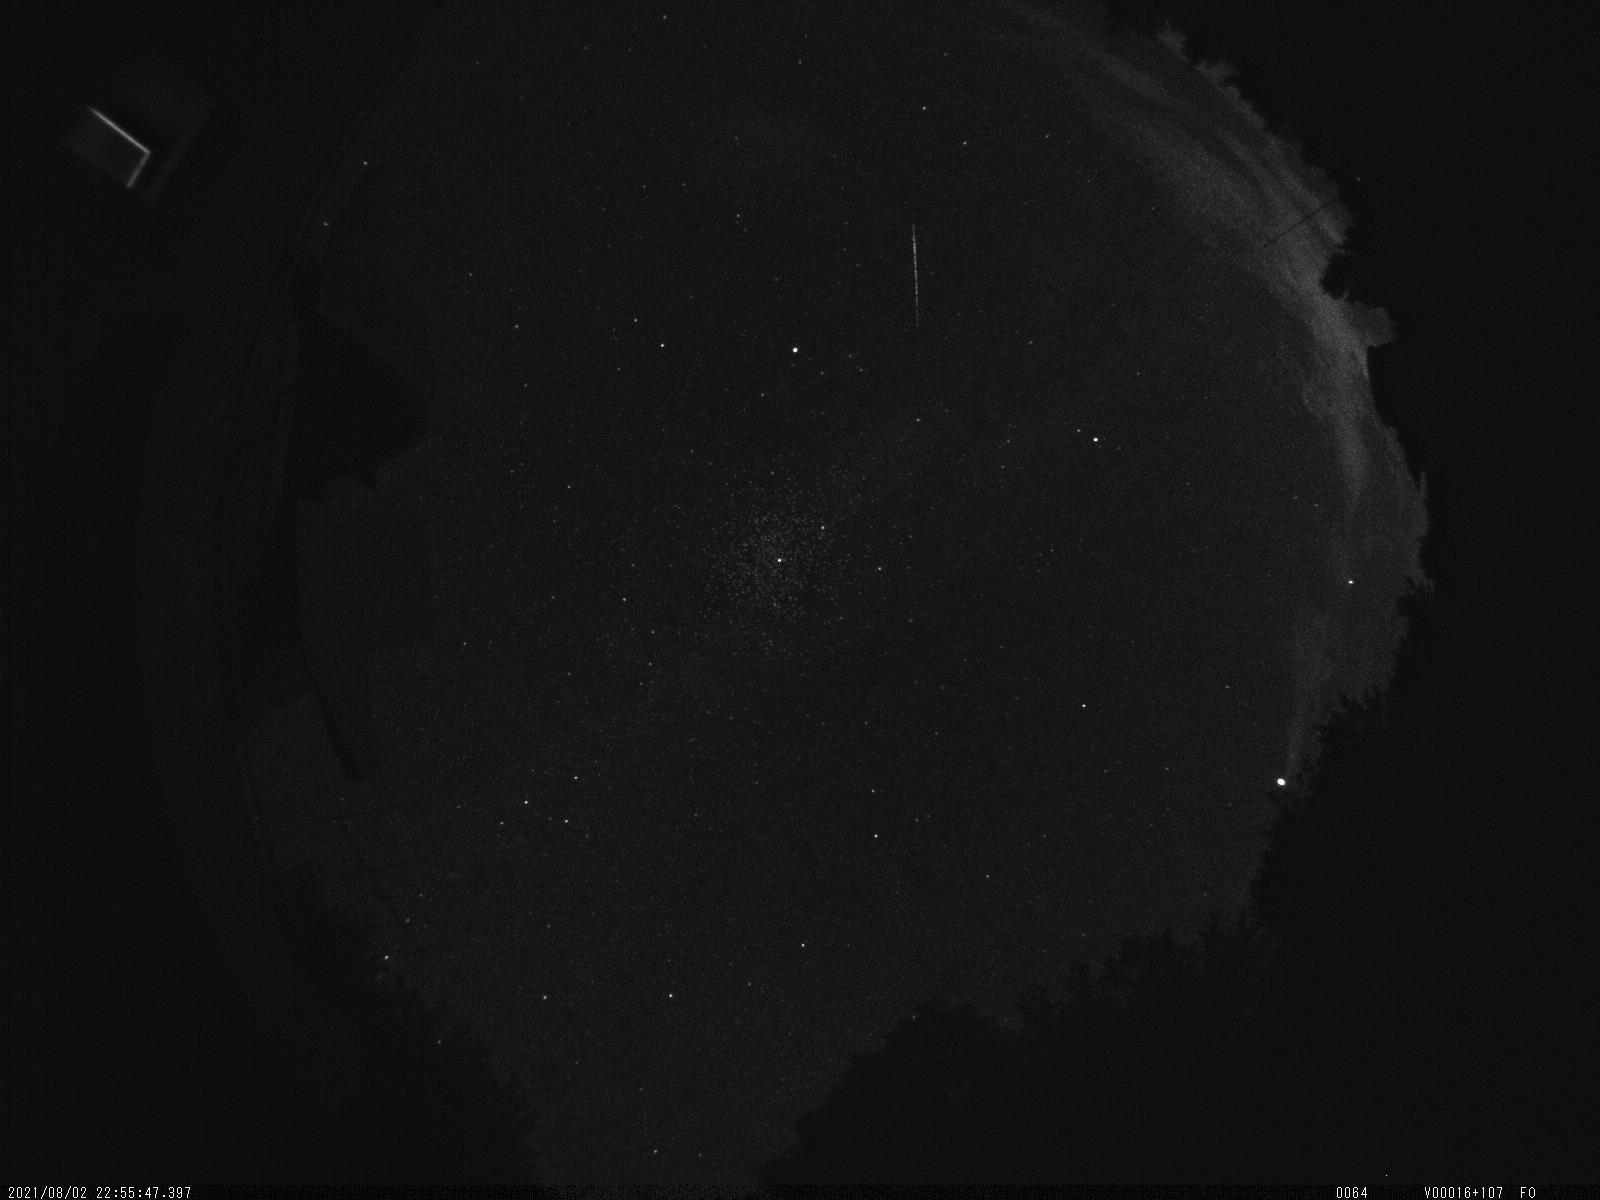Meteor: (898, 214, 932, 350)
